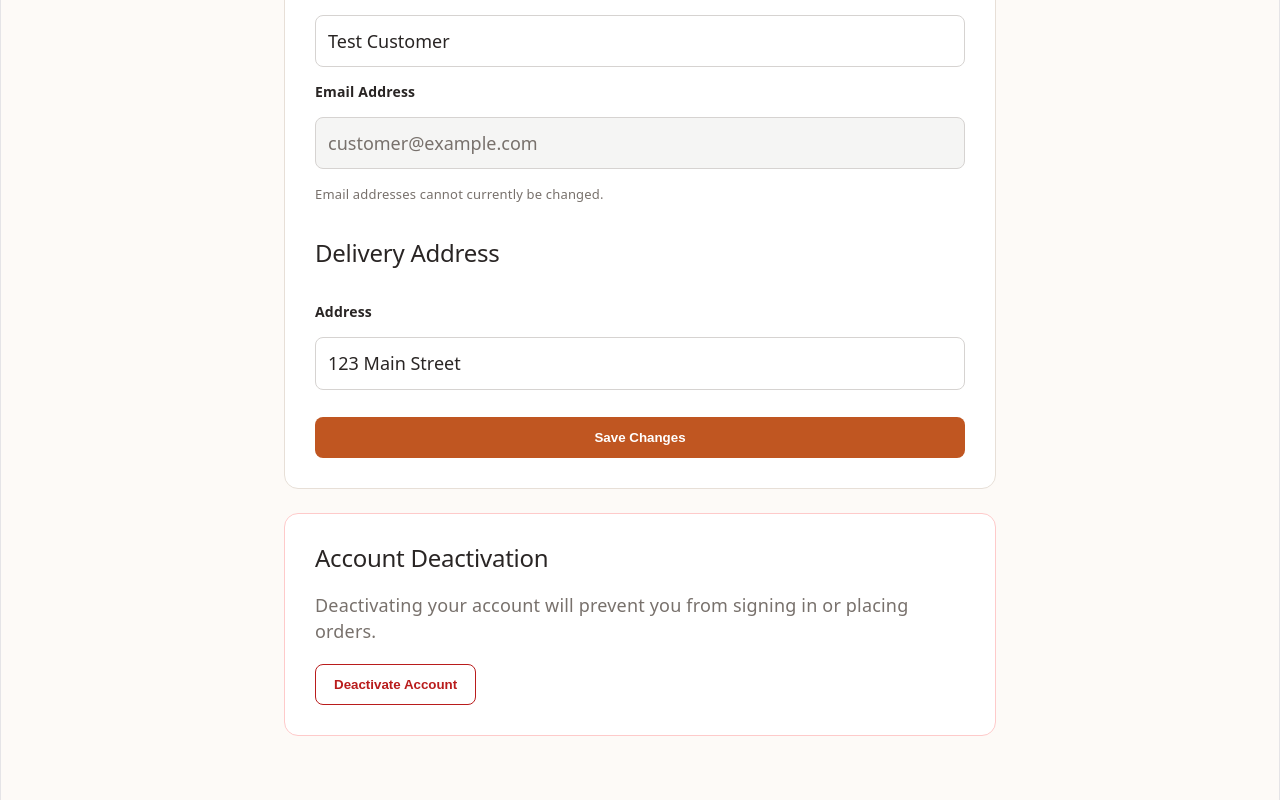
Test case: Customer Profile › preserves the session if deactivation fails
(page scrolled)
Step 1. Click the button "Deactivate Account" → (396, 685), box [315,664,476,705]
(page scrolled)
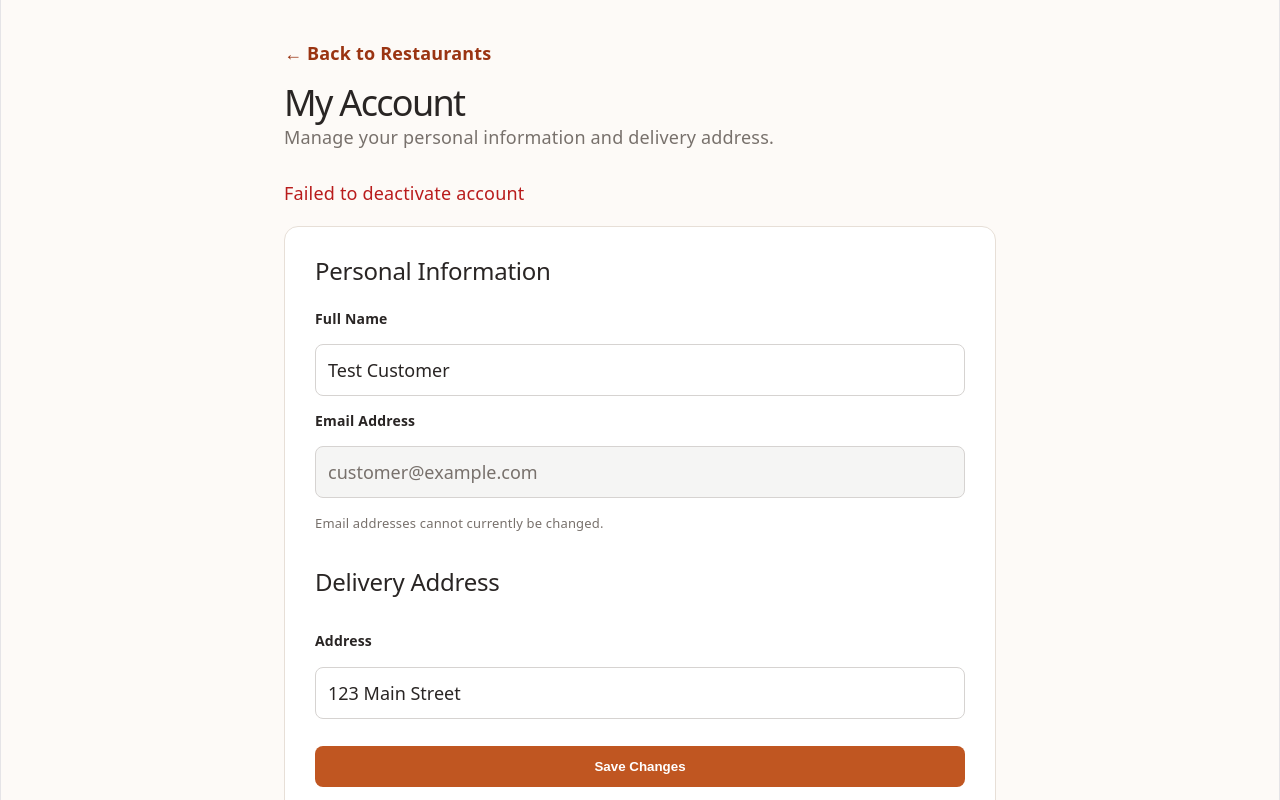
Expected: the heading "My Account" is shown, [284,78,464,127]
Expected: the message reads "Failed to deactivate account", [284,181,524,205]
